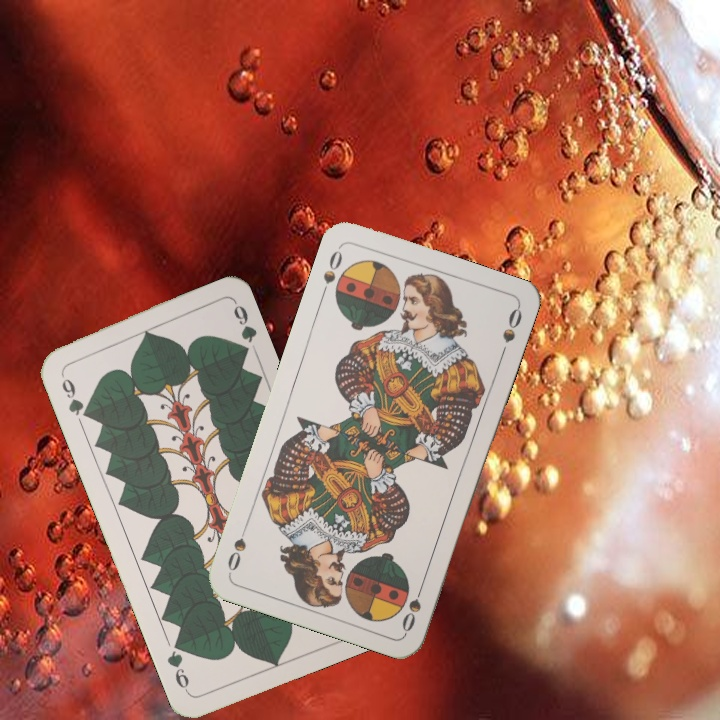G9: (56, 367, 93, 421)
SO: (398, 577, 427, 635), (317, 243, 345, 300)
